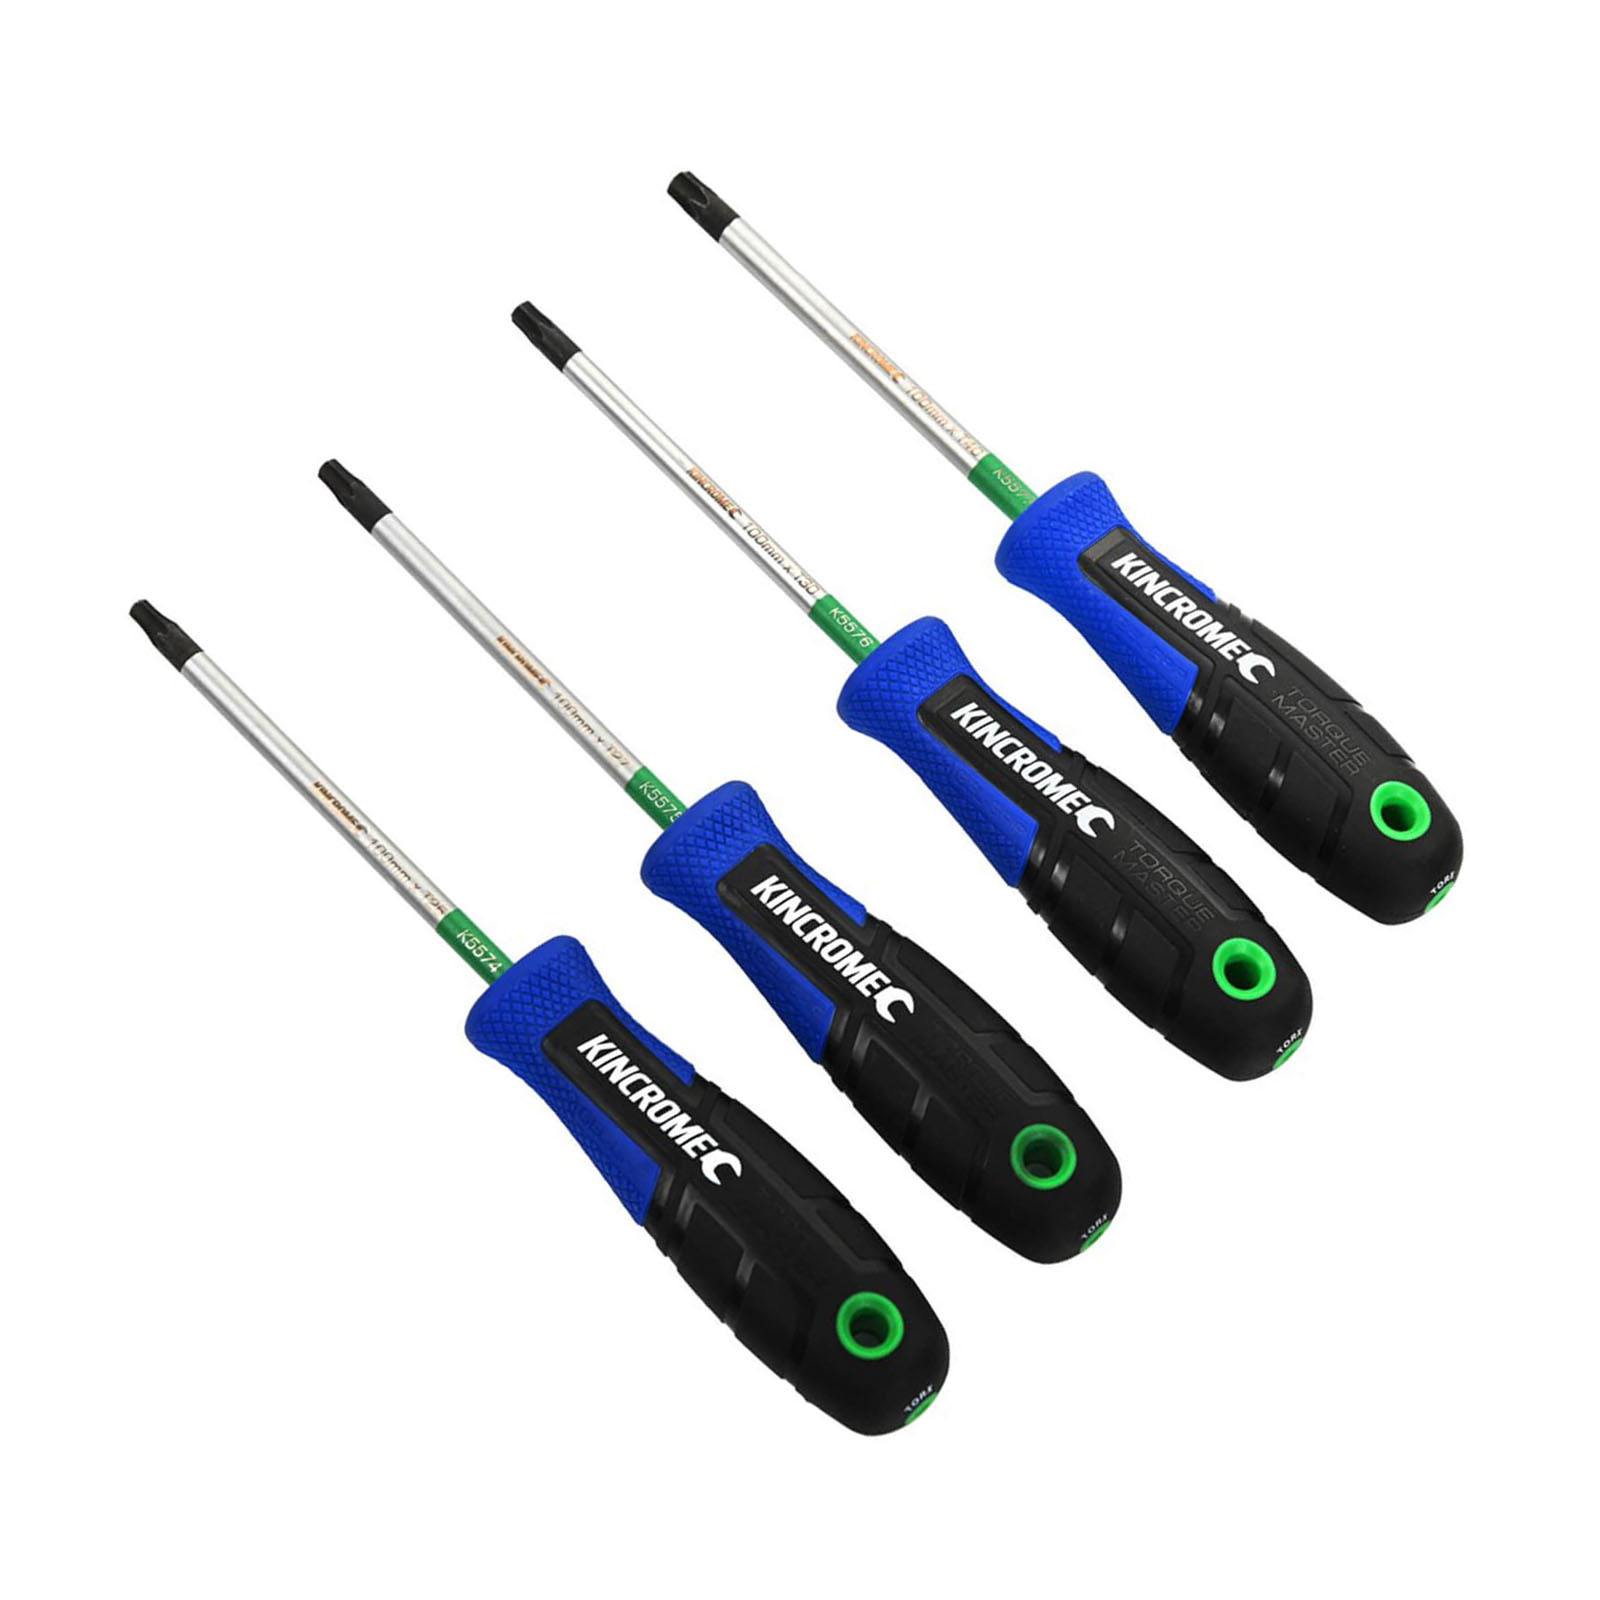screwdriver: (126, 595, 954, 1445), (311, 453, 1128, 1278), (500, 297, 1314, 1084), (659, 164, 1473, 933)
